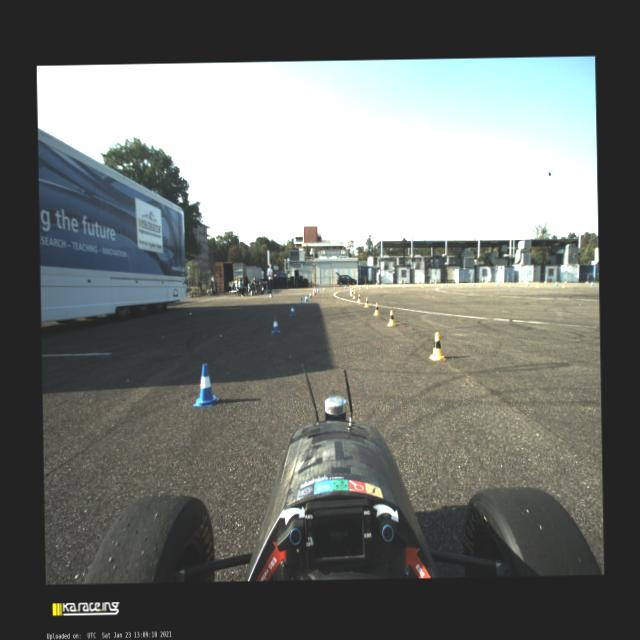blue_cone: (192, 363, 220, 406), (270, 316, 280, 334), (289, 304, 295, 316), (299, 297, 304, 306), (304, 294, 308, 302), (308, 291, 312, 297), (590, 280, 594, 286), (554, 281, 558, 286), (526, 280, 529, 286), (316, 288, 320, 292), (314, 288, 316, 294), (323, 286, 325, 292), (359, 284, 362, 288), (496, 280, 498, 286), (334, 286, 336, 290), (344, 284, 346, 288), (446, 282, 448, 286), (472, 282, 474, 286), (402, 283, 403, 286)
large_orange_cone: (312, 286, 316, 295), (349, 286, 352, 294)
yellow_cone: (428, 332, 446, 359), (386, 310, 394, 326), (374, 302, 379, 315), (364, 297, 368, 307), (356, 294, 361, 302), (352, 292, 355, 298), (235, 276, 238, 282), (562, 282, 565, 287), (536, 282, 539, 286), (350, 290, 352, 296), (478, 282, 481, 286), (459, 282, 462, 286), (402, 282, 404, 288), (358, 286, 361, 290), (352, 286, 354, 292), (441, 282, 443, 287), (421, 282, 423, 287), (508, 282, 510, 286), (380, 284, 382, 288), (366, 284, 368, 288), (353, 286, 355, 290)
